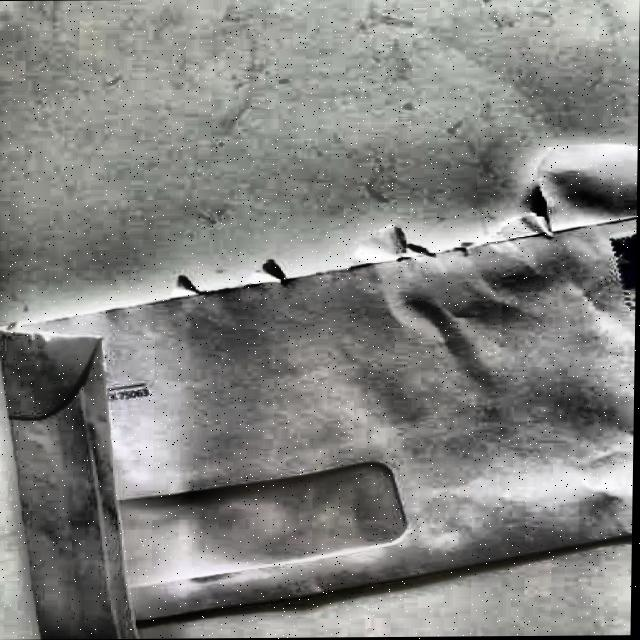paper: (0, 139, 638, 640)
